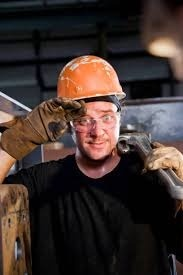helmet: (56, 54, 126, 104)
person with partial safety: (26, 54, 167, 274)
